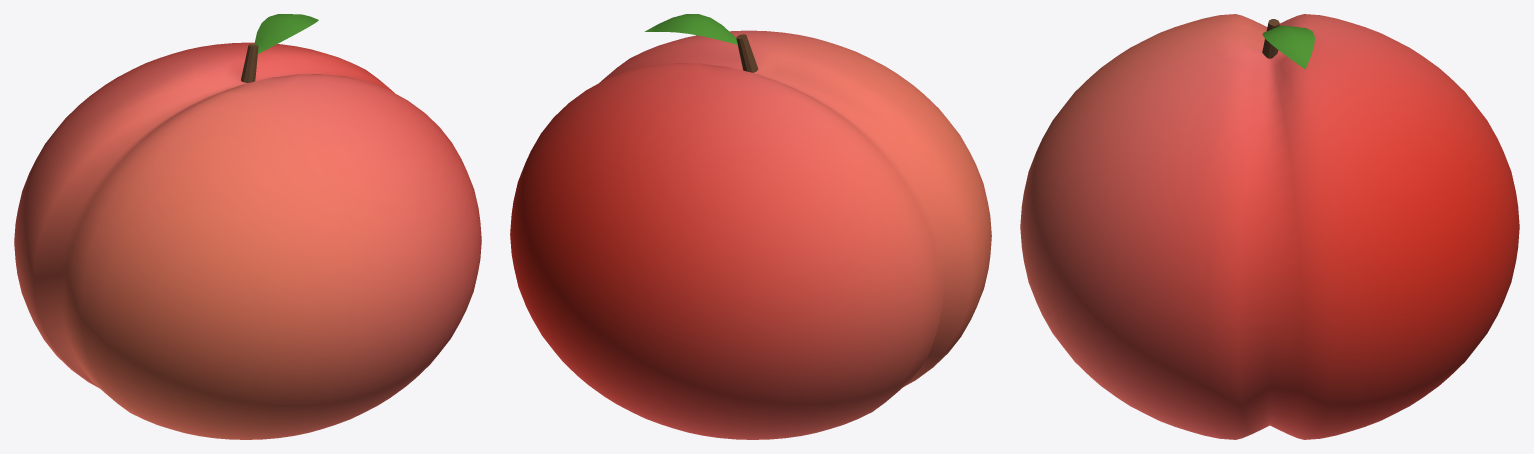
File: peach.fbx
The picture shows the model from 3 angles, left to right: view 1: azimuth 30°, elevation 25°; view 2: azimuth 150°, elevation 25°; view 3: azimuth 270°, elevation 25°; orthographic projection. The views are drawn at different scales.
Parts seen in each view (by area): view 1: peach; view 2: peach; view 3: peach.
Part boxes in pixels (x1=…): peach: x1=14, y1=14, x2=481, y2=439; peach: x1=510, y1=14, x2=991, y2=439; peach: x1=1020, y1=14, x2=1519, y2=439.
Size of the model in its own units: 50 by 45 by 50.
3 materials, 1 textured.
